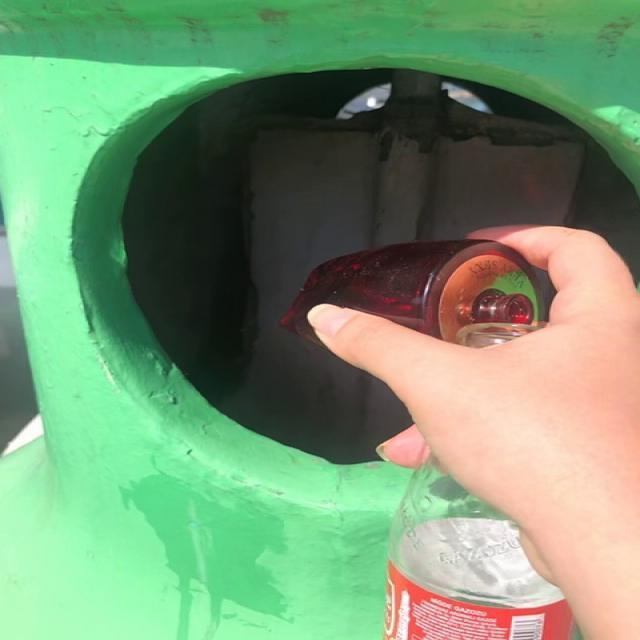Glass: (280, 240, 543, 344)
